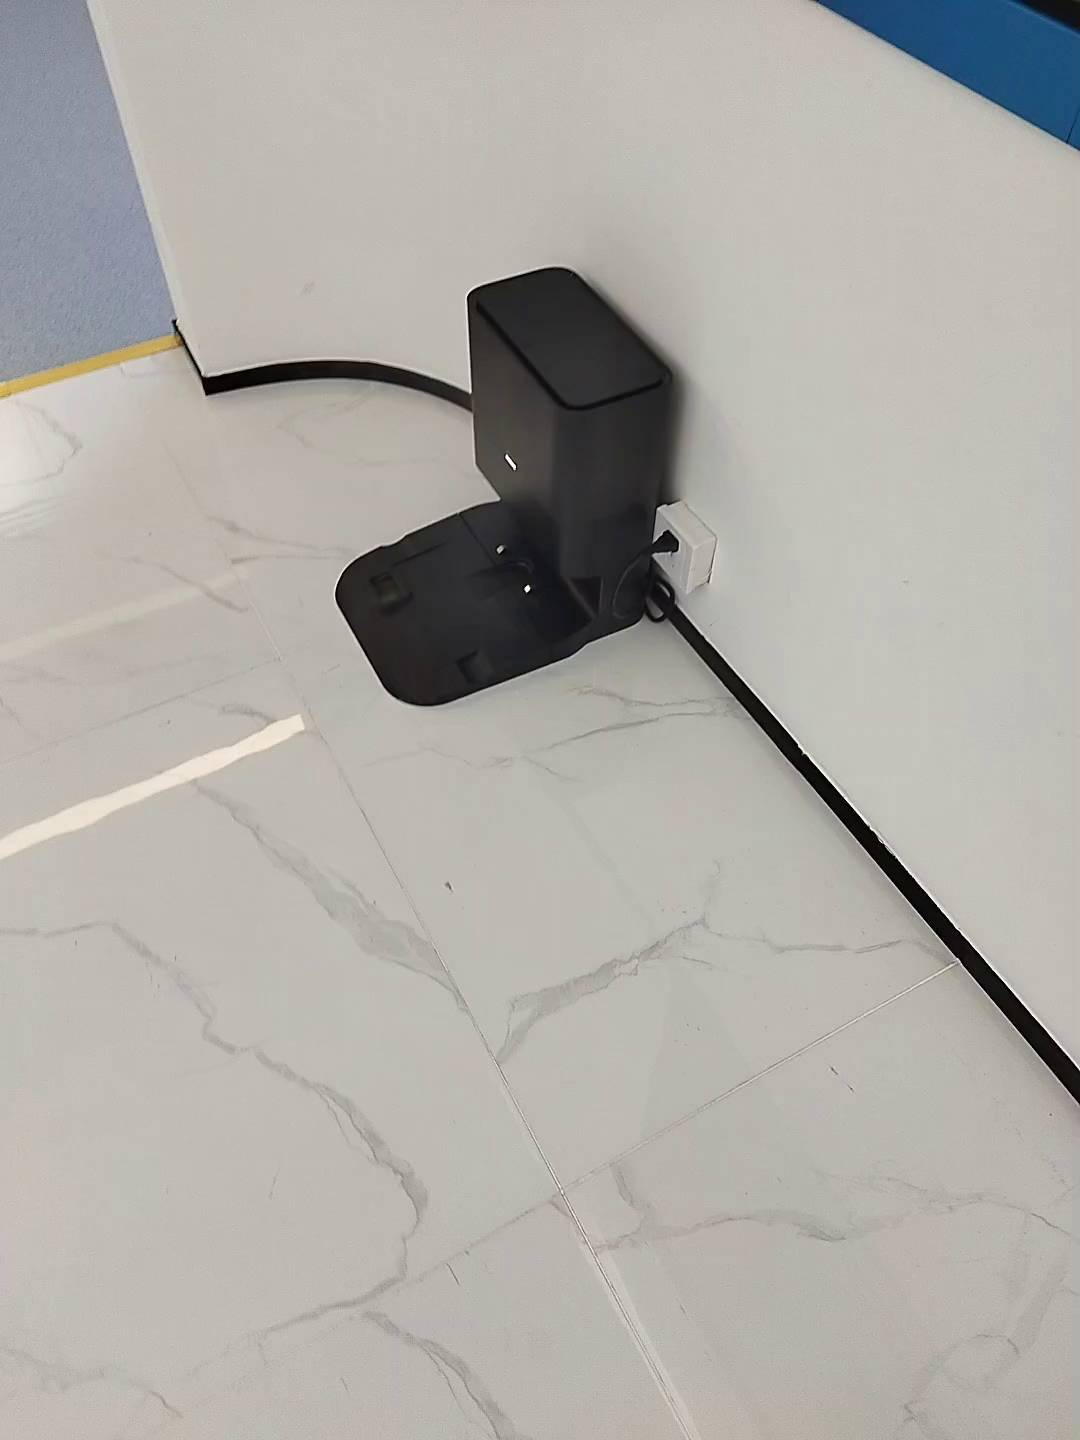dust collecting barrel: (336, 268, 669, 705)
